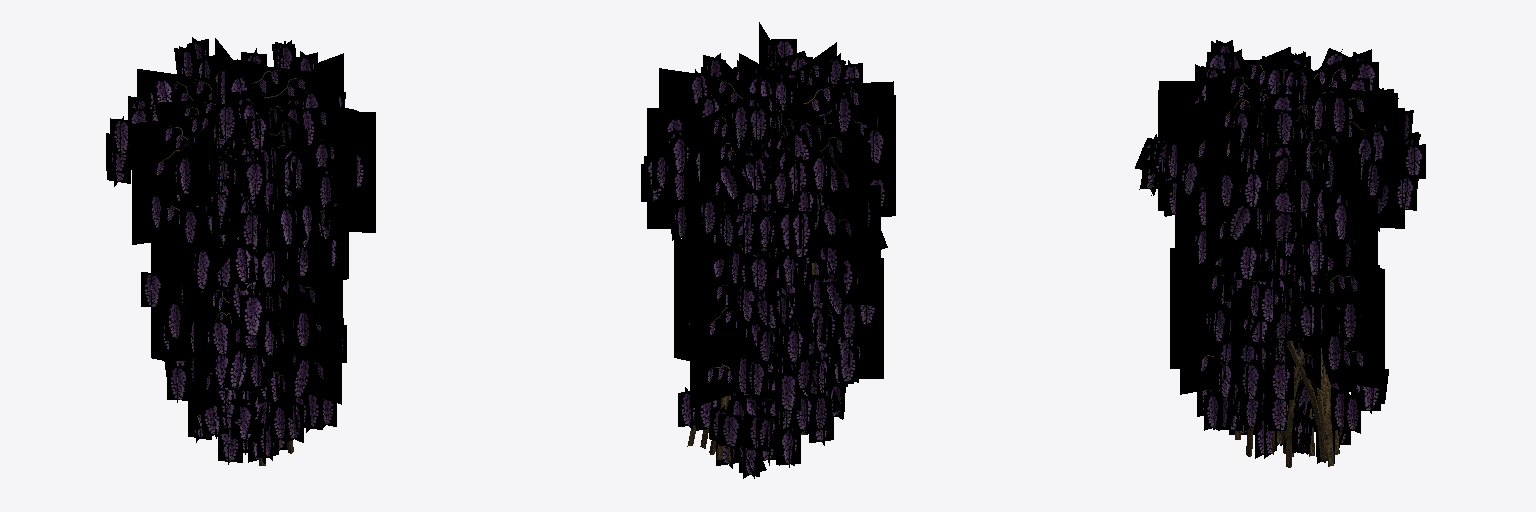
3 views of the same model, side by side, from view 1: azimuth 30°, elevation 25°; view 2: azimuth 150°, elevation 25°; view 3: azimuth 270°, elevation 25° (orthographic).
Visible parts, largest first — view 1: violet_tree; view 2: violet_tree; view 3: violet_tree.
Part boxes in pixels (left/top/right/bottom): violet_tree: left=106, top=37, right=375, bottom=465; violet_tree: left=641, top=22, right=895, bottom=478; violet_tree: left=1135, top=40, right=1425, bottom=467.
Bounding box in the file's own units: 58.69 × 98.56 × 66.09.
Materials: 2 (1 with a texture image).